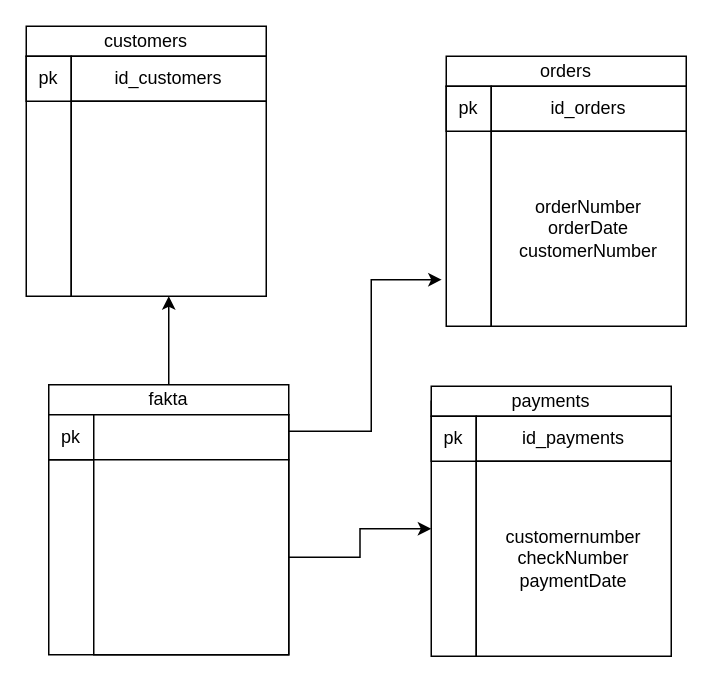
Image size: 713x695. Some labels were removed from this diagram. The shapes that lost their labels are listed below. From the top down, each one's centre as x and y in pixels, then its label:
the point at 168,198: customerNumber phone country
the point at 190,436: id_fakta
the point at 190,556: customernumber orderNumber checkNumber
